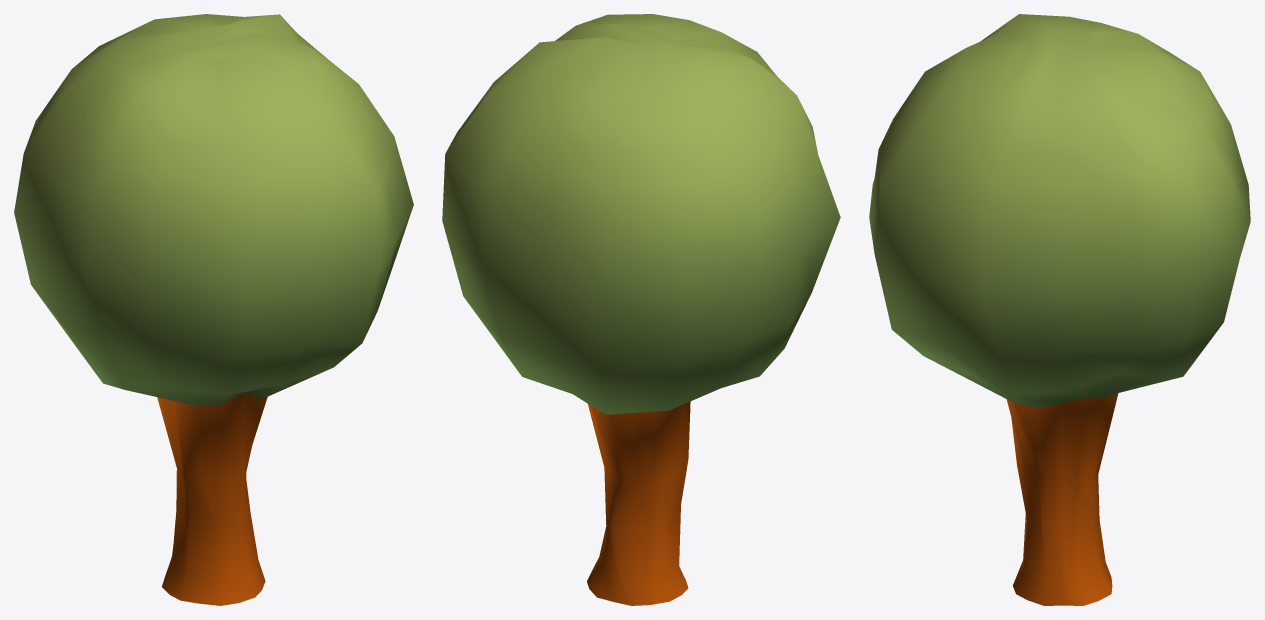
File: Tree.fbx
3 views of the same model, side by side, from view 1: azimuth 30°, elevation 25°; view 2: azimuth 150°, elevation 25°; view 3: azimuth 270°, elevation 25° (orthographic).
Visible parts, largest first — view 1: Tree; view 2: Tree; view 3: Tree.
Boxes of the visible parts, x1,y1,x2,y2 form: Tree: (14,14,413,605); Tree: (442,14,840,605); Tree: (869,14,1250,605).
Size of the model in its own units: 3.16 by 5.1 by 3.26.
